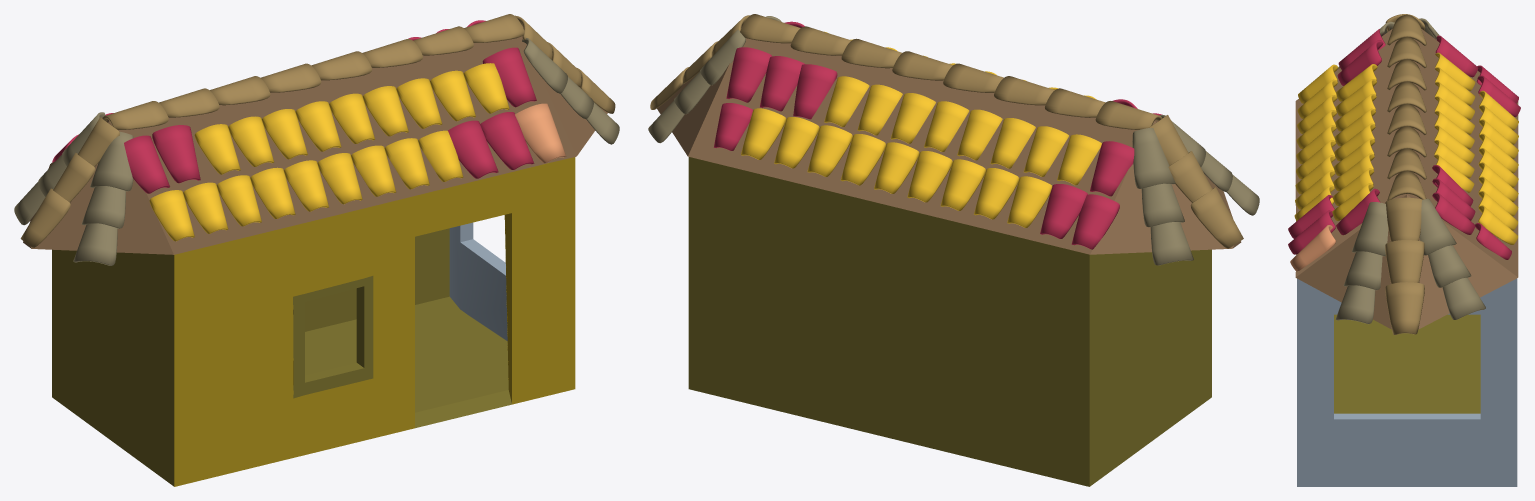
The model's file is Casa1DespuesDelVolcan.glb.
The picture shows the model from 3 angles, left to right: view 1: azimuth 30°, elevation 25°; view 2: azimuth 150°, elevation 25°; view 3: azimuth 270°, elevation 25°; orthographic projection. The views are drawn at different scales.
Visible parts, largest first — view 1: Cube, TechoTejas, Plane.005, Plane.007, Plane, Plane.012, Plane.008, Plane.010, Plane.014, Plane.006, Plane.003, Plane.013 (+4 smaller); view 2: Cube, TechoTejas, Plane.004, Plane.002, Plane, Plane.013, Plane.008, Plane.011, Plane.012, Plane.020, Plane.023, Plane.022 (+5 smaller); view 3: Cube, TechoTejas, Plane, Plane.007, Plane.004, Plane.005, Plane.009, Plane.002, Plane.010, Plane.011, Plane.003, Plane.014 (+11 smaller).
Boxes of the visible parts, <box> form: Cube: <box>52,157,575,486</box>; TechoTejas: <box>23,25,607,254</box>; Plane.005: <box>149,130,463,241</box>; Plane.007: <box>194,63,509,174</box>; Plane: <box>102,14,524,129</box>; Plane.012: <box>73,131,133,265</box>; Plane.008: <box>20,117,119,247</box>; Plane.010: <box>522,38,619,144</box>; Plane.014: <box>152,125,200,183</box>; Plane.006: <box>480,112,534,169</box>; Plane.003: <box>515,103,566,163</box>; Plane.013: <box>14,112,105,225</box>; Cube: <box>688,157,1211,486</box>; TechoTejas: <box>657,25,1241,254</box>; Plane.004: <box>741,108,1052,227</box>; Plane.002: <box>824,76,1101,185</box>; Plane: <box>740,14,1162,129</box>; Plane.013: <box>1132,128,1193,265</box>; Plane.008: <box>1149,115,1243,248</box>; Plane.011: <box>648,29,745,143</box>; Plane.012: <box>1159,114,1259,215</box>; Plane.020: <box>726,47,772,102</box>; Plane.023: <box>1040,184,1087,238</box>; Plane.022: <box>1071,194,1119,249</box>; Cube: <box>1297,278,1517,486</box>; TechoTejas: <box>1295,29,1518,329</box>; Plane: <box>1387,14,1426,200</box>; Plane.007: <box>1332,64,1377,220</box>; Plane.004: <box>1478,90,1518,244</box>; Plane.005: <box>1294,64,1338,220</box>; Plane.009: <box>1385,197,1424,334</box>; Plane.002: <box>1434,52,1475,192</box>; Plane.010: <box>1335,202,1388,324</box>; Plane.011: <box>1419,198,1485,319</box>; Plane.003: <box>1290,225,1335,271</box>; Plane.014: <box>1337,40,1383,85</box>.
Bounding box in the file's own units: 27.99 × 14.9 × 10.64.
